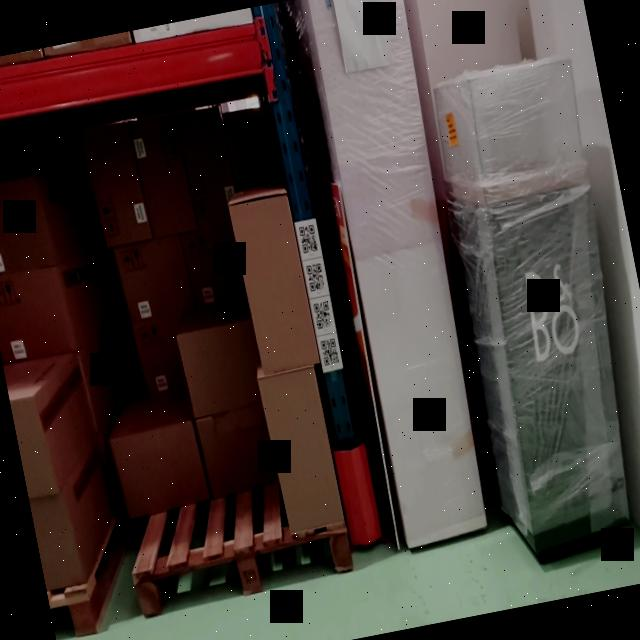box: (230, 192, 320, 372), (261, 366, 345, 533), (114, 422, 208, 519), (130, 114, 197, 236), (85, 124, 148, 245), (178, 324, 262, 413), (178, 111, 240, 226), (0, 265, 72, 360), (196, 408, 277, 491), (116, 236, 194, 320), (183, 228, 247, 310), (29, 494, 82, 590), (0, 178, 50, 277), (133, 314, 187, 397), (225, 105, 279, 185), (10, 398, 52, 498)
